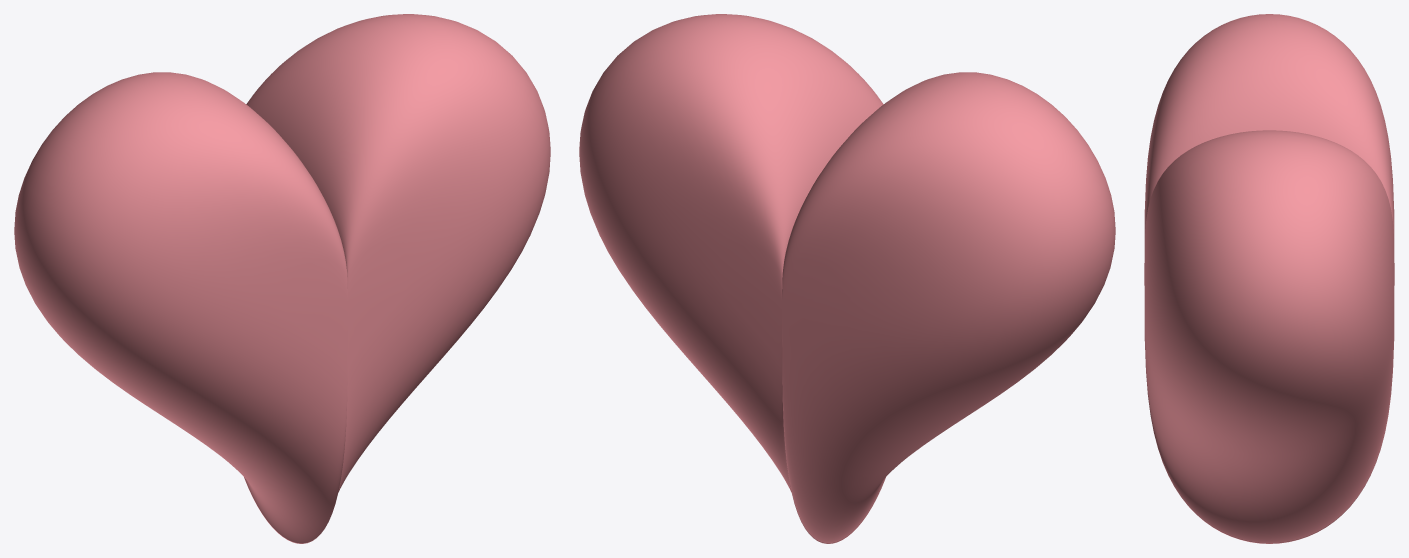
File: heart.glb
3 renders of one model, left to right at view 1: azimuth 30°, elevation 25°; view 2: azimuth 150°, elevation 25°; view 3: azimuth 270°, elevation 25°, orthographic. The views are drawn at different scales.
Visible parts, largest first — view 1: Heart; view 2: Heart; view 3: Heart.
Part boxes in pixels (<box>): Heart: <box>14,14,550,543</box>; Heart: <box>579,14,1115,543</box>; Heart: <box>1144,14,1394,543</box>.
Bounding box in the file's own units: 1.5 × 1.36 × 0.6694.
